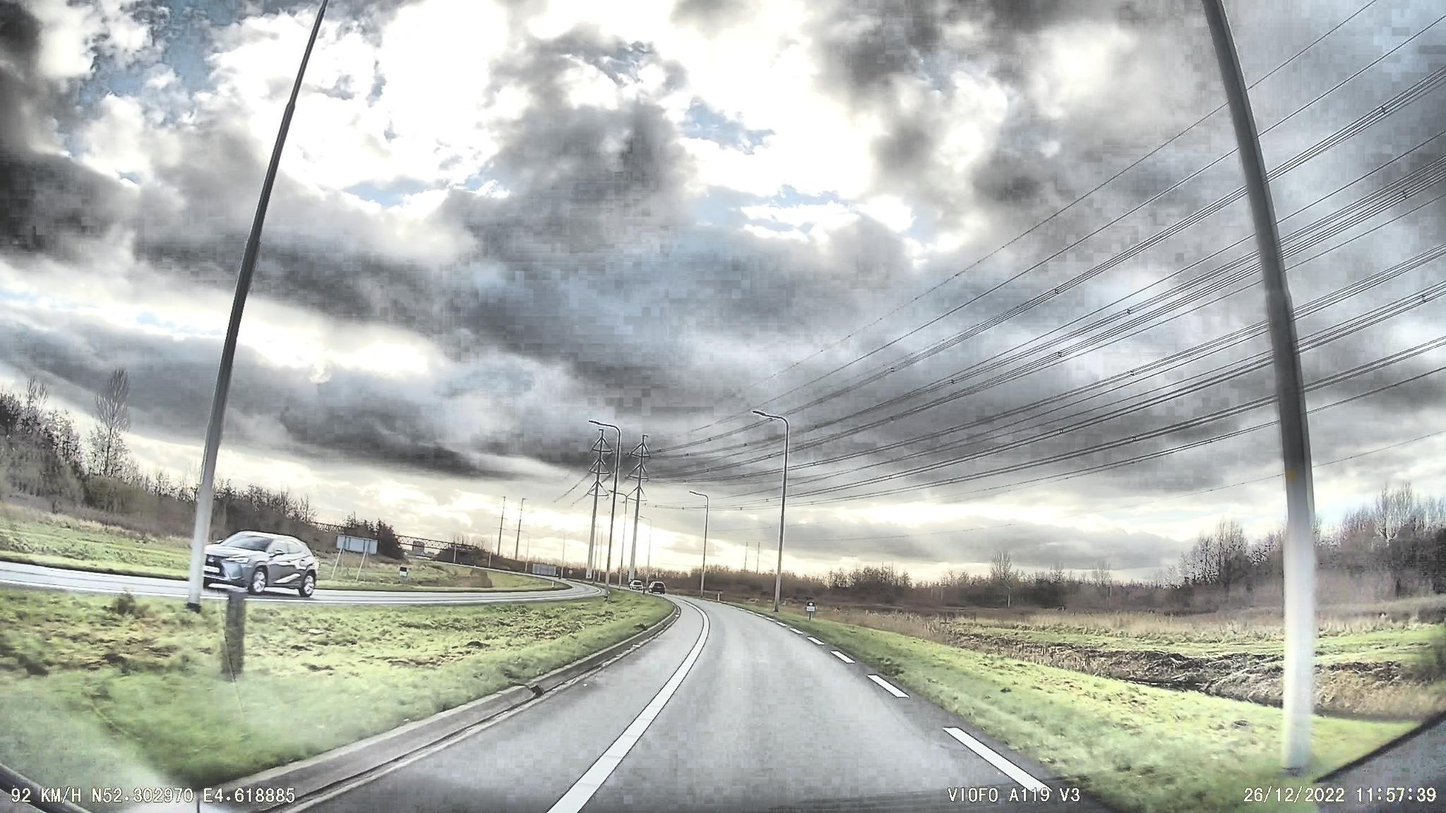Roads: (228, 597, 1119, 813)
